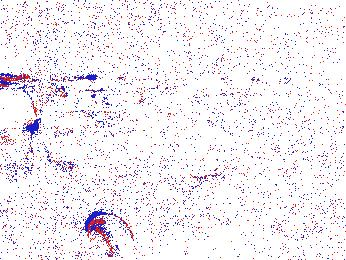flame jellyfish: (1, 85, 41, 182), (216, 207, 287, 260), (77, 211, 136, 260)
